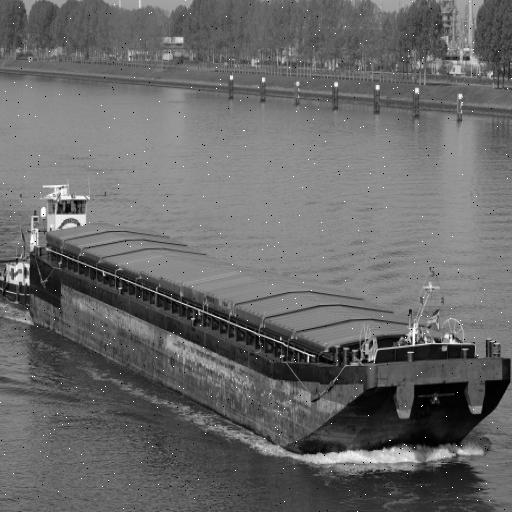tugboat: (1, 174, 103, 313)
